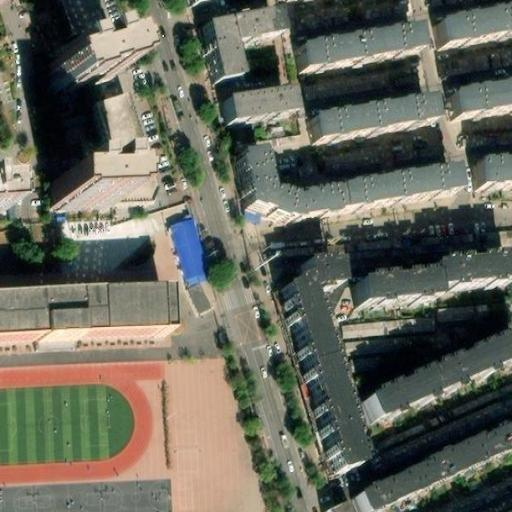building: (237, 149, 460, 226), (277, 262, 356, 478), (357, 337, 512, 432), (350, 427, 512, 512), (0, 293, 165, 341), (312, 101, 438, 150), (205, 14, 280, 90), (301, 31, 421, 78), (295, 66, 411, 104), (39, 48, 113, 100), (163, 213, 211, 287), (353, 275, 432, 312), (338, 304, 428, 336), (428, 258, 505, 295), (439, 15, 512, 53), (223, 96, 294, 134), (341, 326, 432, 355), (433, 45, 512, 78), (47, 177, 114, 215), (453, 88, 512, 127), (433, 300, 490, 326), (343, 351, 386, 373), (479, 166, 512, 194)
